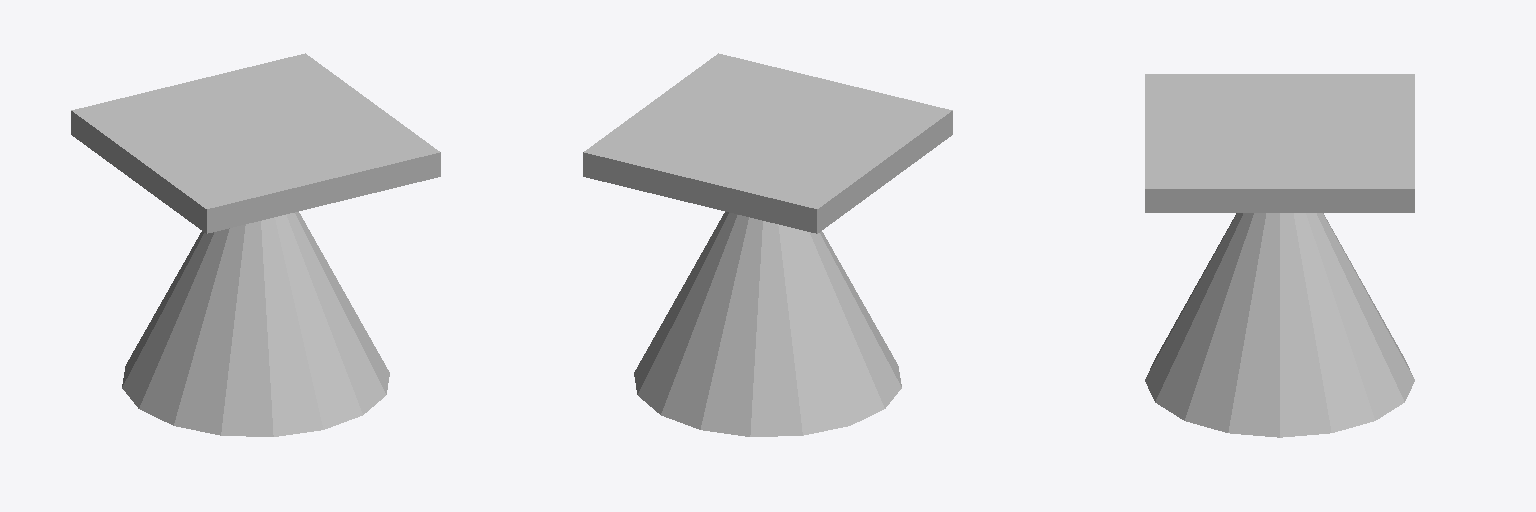
File: SpotLight.obj
3 views of the same model, side by side, from view 1: azimuth 30°, elevation 25°; view 2: azimuth 150°, elevation 25°; view 3: azimuth 270°, elevation 25° (orthographic).
Visible parts, largest first — view 1: Cone; view 2: Cone; view 3: Cone.
Part boxes in pixels (bbox=[...]): Cone: bbox=[71, 53, 440, 436]; Cone: bbox=[583, 53, 952, 436]; Cone: bbox=[1145, 74, 1414, 437].
Bounding box in the file's own units: 0.6 × 0.61 × 0.6.